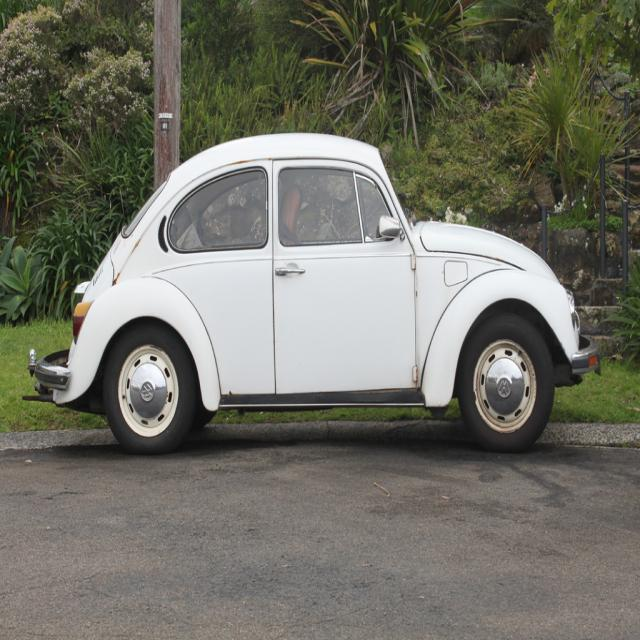car: (13, 129, 602, 459)
